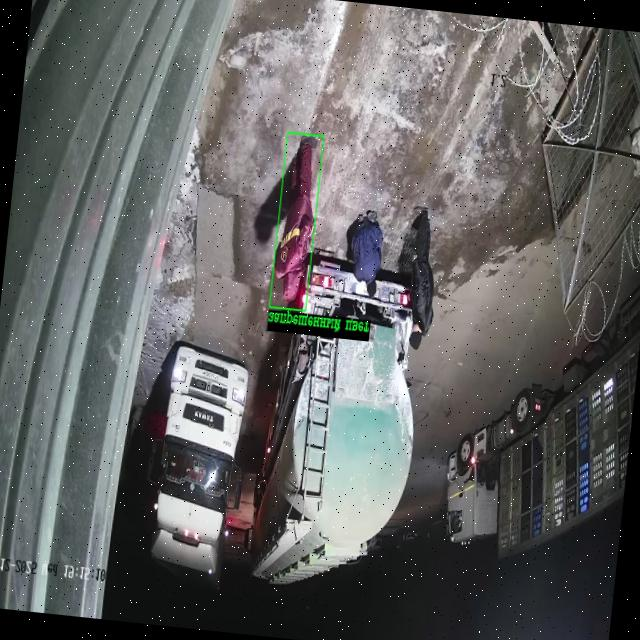Person: (409, 206, 433, 349), (351, 211, 383, 295)
Red uniform: (275, 136, 315, 301)
